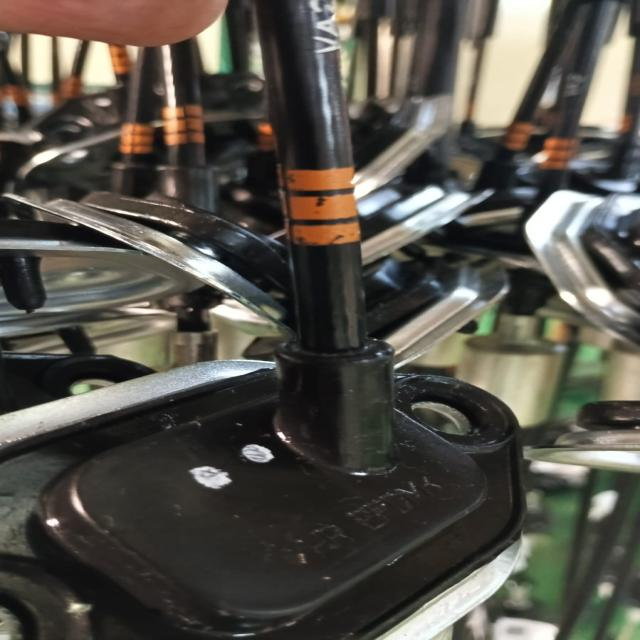orange: (275, 166, 363, 246), (162, 108, 202, 147)
